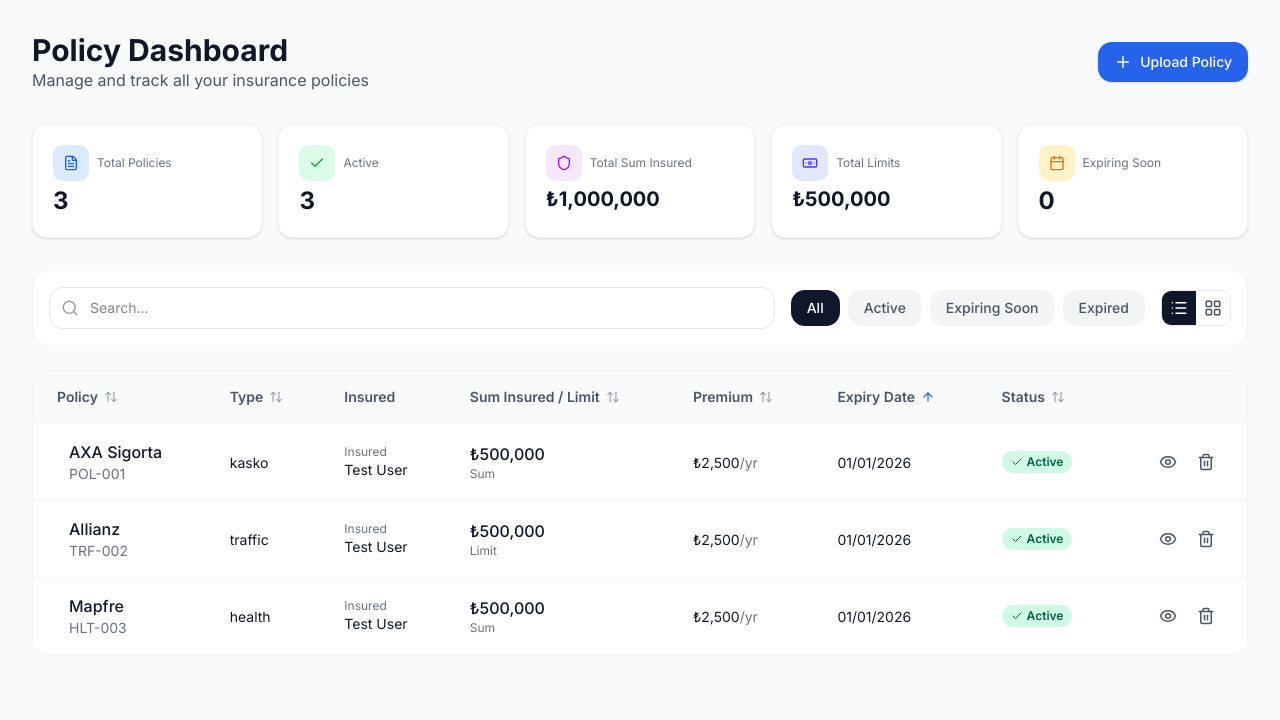
Test: PolicyDashboard Branch Coverage › Search filtering › filters by provider name
The width and height of the screenshot is (1280, 720).
In the field with placeholder "Search...": (412, 308) x1=49 y1=287 x2=775 y2=329, type "mapfre"
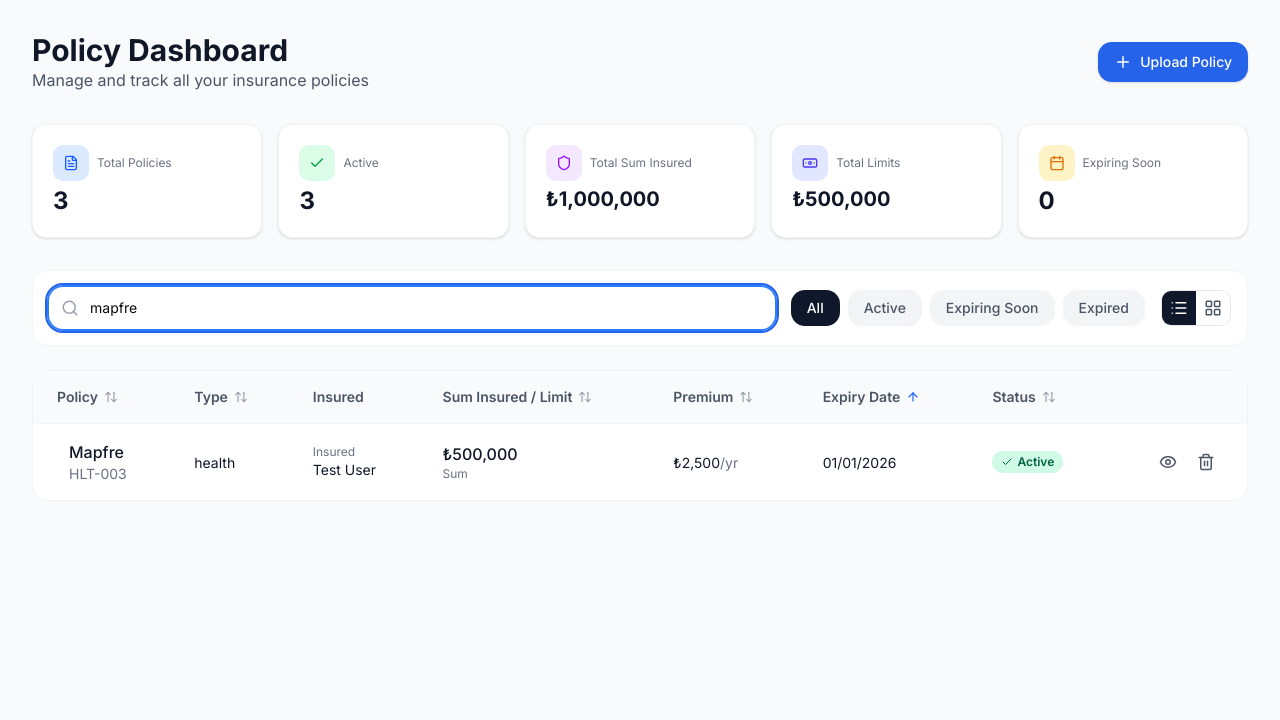
Expected: the text "HLT-003" is shown, x1=69 y1=464 x2=127 y2=484
Now the text "POL-001" is gone
